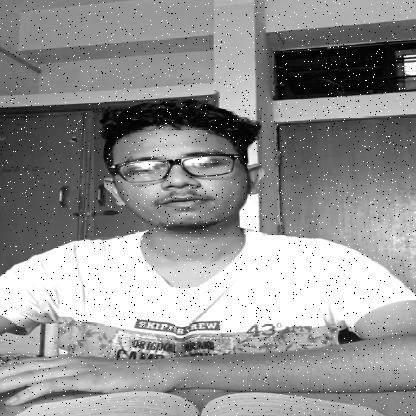Normal: (94, 110, 262, 238)
